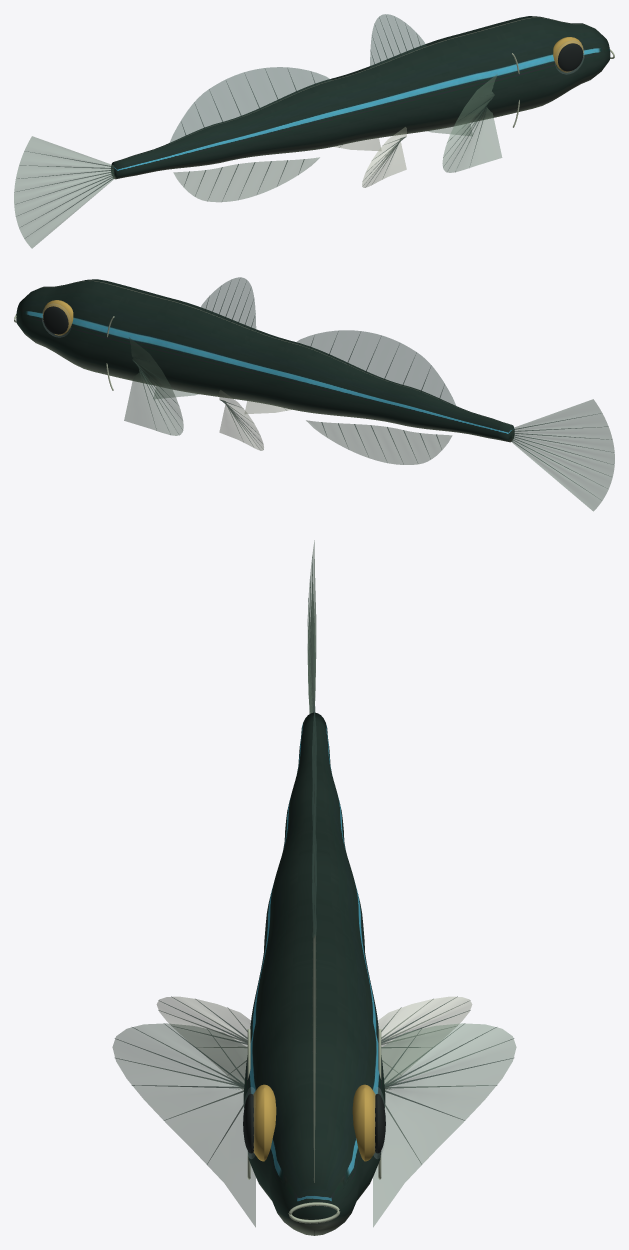
File: neongoby-mobile.glb
3 renders of one model, top to bottom at view 1: azimuth 30°, elevation 25°; view 2: azimuth 150°, elevation 25°; view 3: azimuth 270°, elevation 25°, orthographic. The views are drawn at different scales.
Parts seen in each view (by area): view 1: skin, dorsal, tail, anal, pectoral-left, dorsal-ray, pelvic-left, eye-pupil--1, eye-iris--1; view 2: skin, tail, dorsal, anal, pectoral-left, dorsal-ray, pelvic-left, eye-pupil--1, eye-iris--1; view 3: skin, pectoral-left, pelvic-left, dorsal-ray, eye-iris--1, tail, eye-pupil--1, dorsal, operculum.
Boxes of the visible parts, x1=… form: skin: x1=111, y1=16, x2=610, y2=179; dorsal: x1=169, y1=14, x2=426, y2=143; tail: x1=14, y1=136, x2=114, y2=248; anal: x1=173, y1=157, x2=319, y2=202; pectoral-left: x1=427, y1=74, x2=502, y2=172; dorsal-ray: x1=14, y1=16, x2=493, y2=237; pelvic-left: x1=334, y1=127, x2=406, y2=187; eye-pupil--1: x1=558, y1=43, x2=583, y2=71; eye-iris--1: x1=553, y1=37, x2=583, y2=72; skin: x1=16, y1=279, x2=514, y2=442; tail: x1=511, y1=399, x2=614, y2=511; dorsal: x1=199, y1=277, x2=456, y2=406; anal: x1=306, y1=420, x2=452, y2=464; pectoral-left: x1=124, y1=337, x2=198, y2=435; dorsal-ray: x1=132, y1=282, x2=613, y2=496; pelvic-left: x1=219, y1=390, x2=291, y2=450; eye-pupil--1: x1=43, y1=306, x2=68, y2=334; eye-iris--1: x1=42, y1=300, x2=73, y2=335; skin: x1=243, y1=712, x2=385, y2=1235; pectoral-left: x1=112, y1=1023, x2=516, y2=1227; pelvic-left: x1=156, y1=996, x2=472, y2=1090; dorsal-ray: x1=115, y1=557, x2=513, y2=1164; eye-iris--1: x1=253, y1=1084, x2=375, y2=1161; tail: x1=307, y1=540, x2=316, y2=713; eye-pupil--1: x1=243, y1=1094, x2=385, y2=1153; dorsal: x1=312, y1=705, x2=316, y2=937; operculum: x1=247, y1=1029, x2=381, y2=1223.
Bounding box in the file's own units: 0.5972 × 0.1512 × 0.1755.
11 materials, 1 textured.
